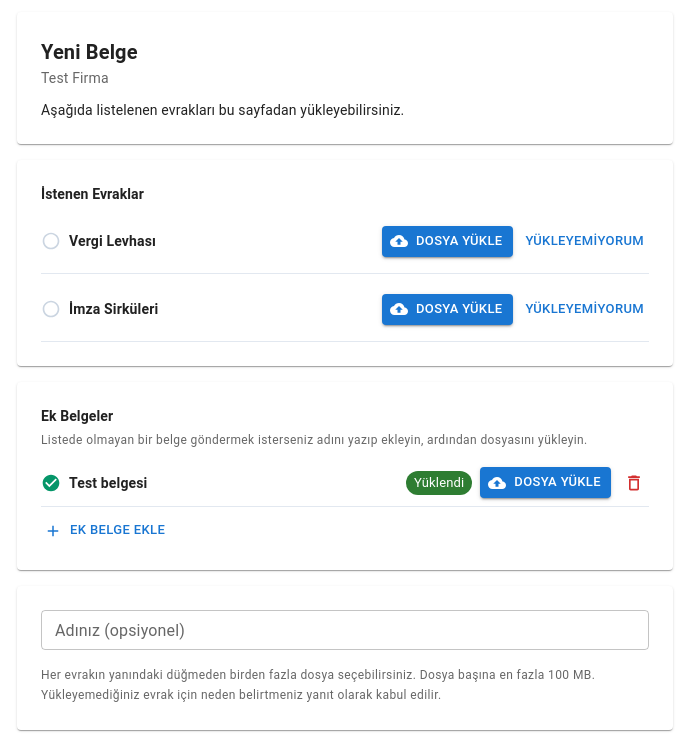
firmanın eklediği belge onayla listeden kaldırılır
This screenshot has width=691, height=748.
Step 1. Click the button named "Test belgesi kaldır" → (634, 483), box [619,468,649,498]
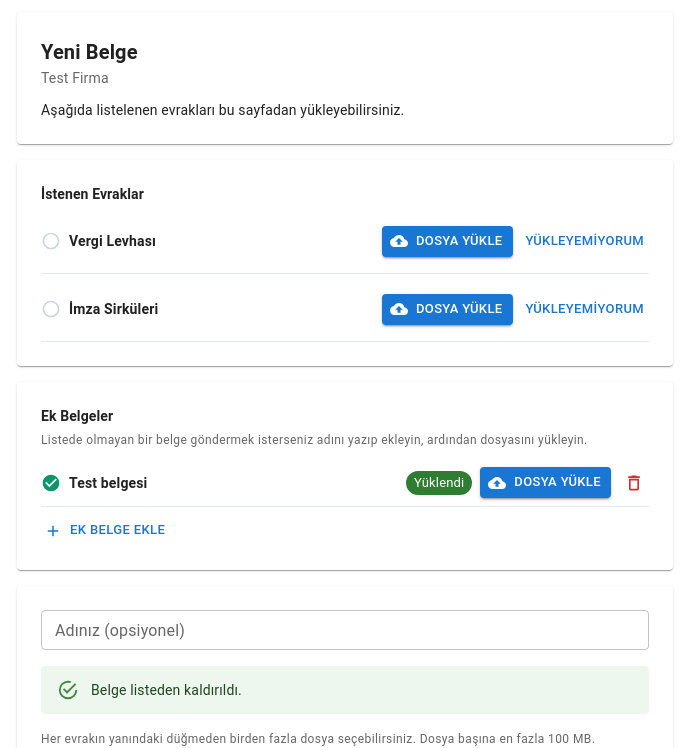
Expected: the text "Belge listeden kaldırıldı." is shown, [91,682,242,698]
